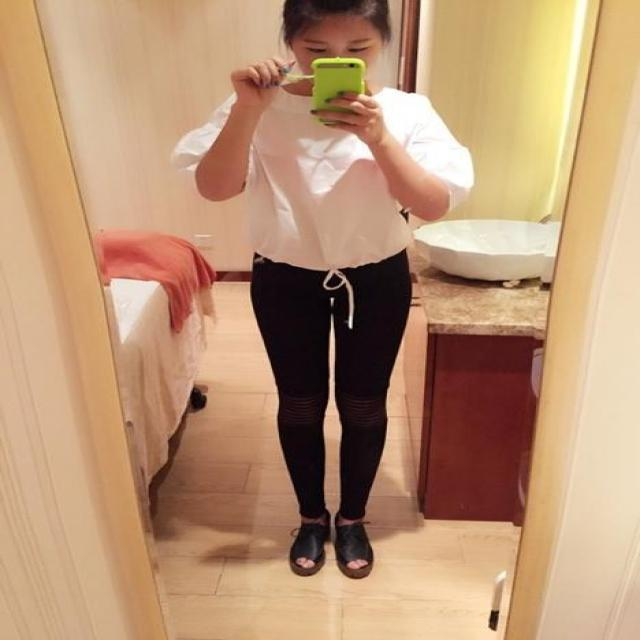short-sleeve-top: (184, 75, 489, 268)
trousers: (223, 288, 437, 530)
